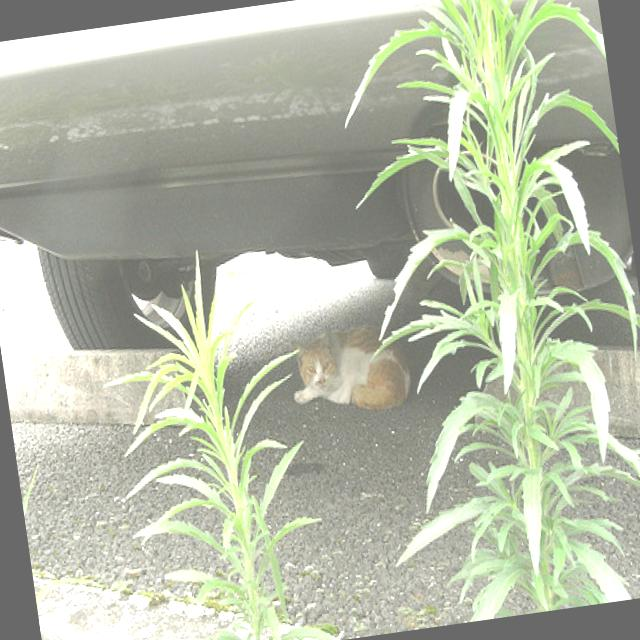Vehicle: (0, 0, 640, 453), (0, 184, 27, 271)
